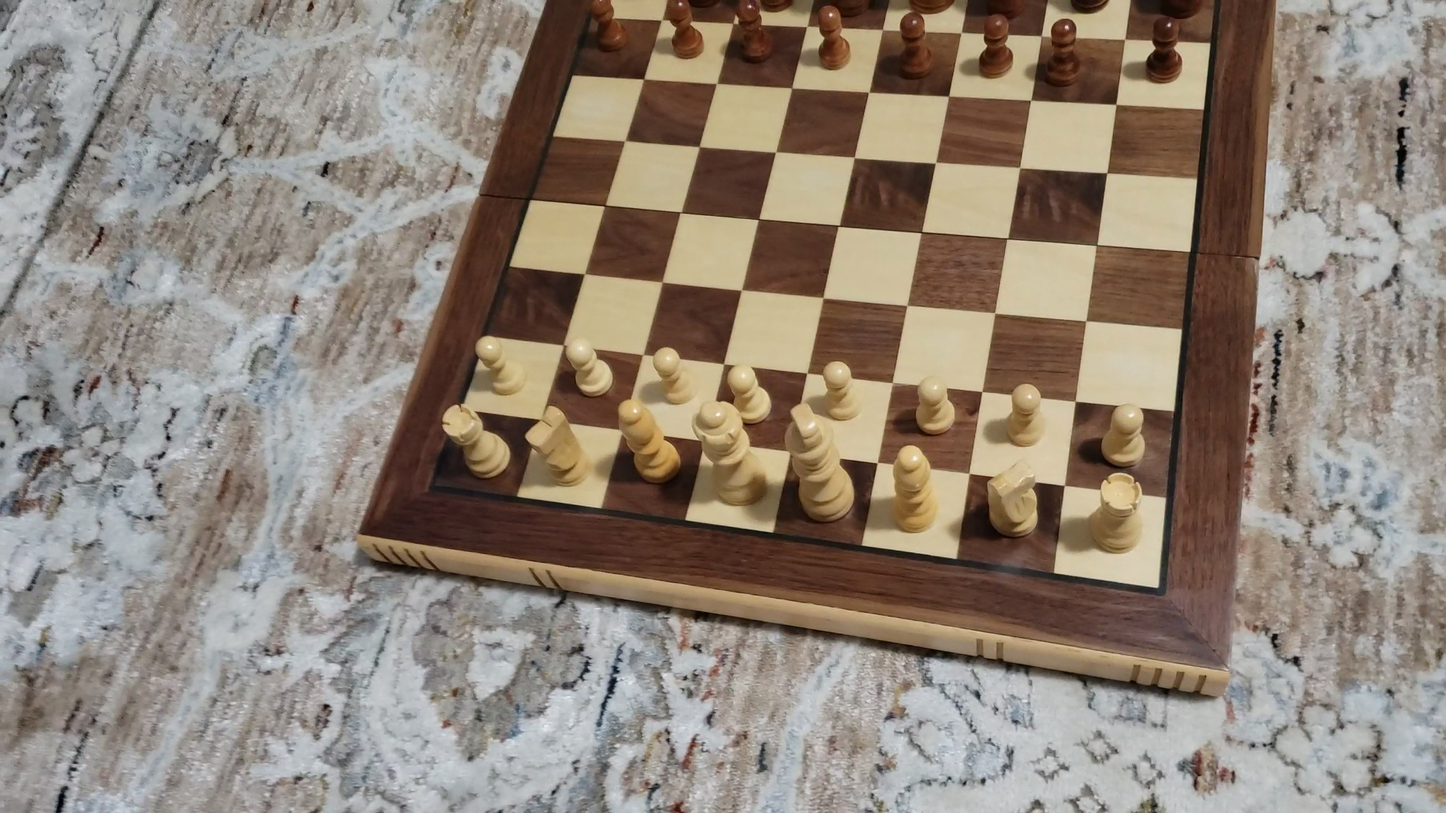black-pawn: (1144, 13, 1184, 85), (1043, 15, 1081, 88), (812, 3, 851, 71), (896, 8, 932, 81), (731, 0, 772, 63), (978, 10, 1014, 80), (664, 0, 702, 59), (587, 0, 626, 54)
white-bishop: (613, 397, 684, 487), (887, 443, 940, 536)
white-king: (781, 403, 857, 526)
white-knight: (522, 403, 591, 490), (981, 454, 1043, 542)
white-pawn: (715, 353, 777, 424), (471, 333, 528, 399), (1097, 401, 1149, 471), (563, 333, 615, 400), (912, 370, 959, 438), (1002, 380, 1047, 449), (816, 357, 860, 424), (650, 343, 690, 408)
white-queen: (690, 400, 773, 511)
white-rook: (440, 402, 514, 482), (1084, 470, 1147, 557)
